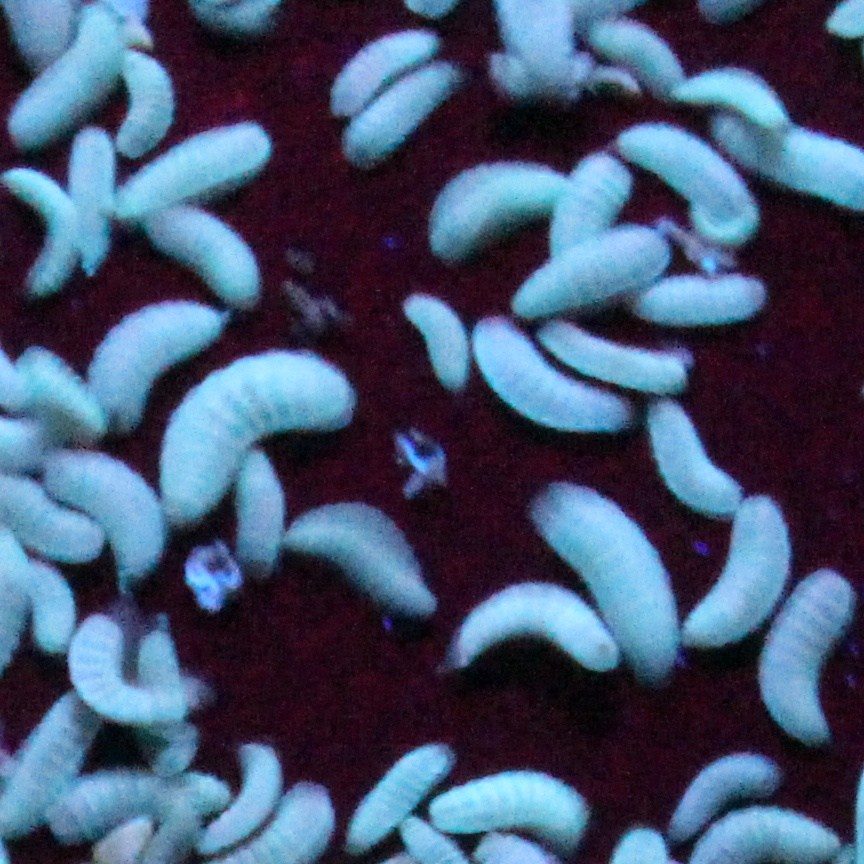larve: (157, 326, 367, 516), (522, 478, 675, 691), (271, 495, 445, 634), (455, 319, 642, 442), (668, 488, 794, 662), (760, 557, 860, 762), (30, 449, 173, 585), (609, 121, 767, 240), (5, 3, 121, 149), (103, 118, 279, 214), (337, 729, 460, 860), (435, 580, 629, 663), (421, 763, 594, 844), (142, 204, 268, 313), (653, 747, 791, 845), (535, 309, 691, 395), (60, 611, 180, 719), (547, 141, 631, 288), (639, 398, 740, 518), (435, 154, 565, 247), (193, 732, 288, 857), (1, 159, 83, 303), (345, 67, 460, 165), (386, 288, 485, 401), (326, 27, 442, 121), (59, 124, 121, 277), (106, 35, 178, 165), (616, 262, 765, 322), (22, 351, 103, 438)
